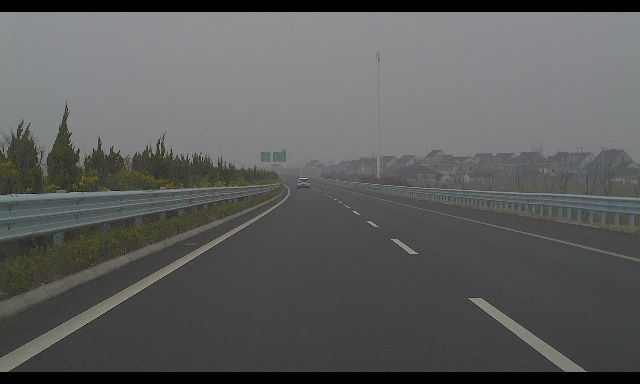car: (297, 178, 310, 189)
